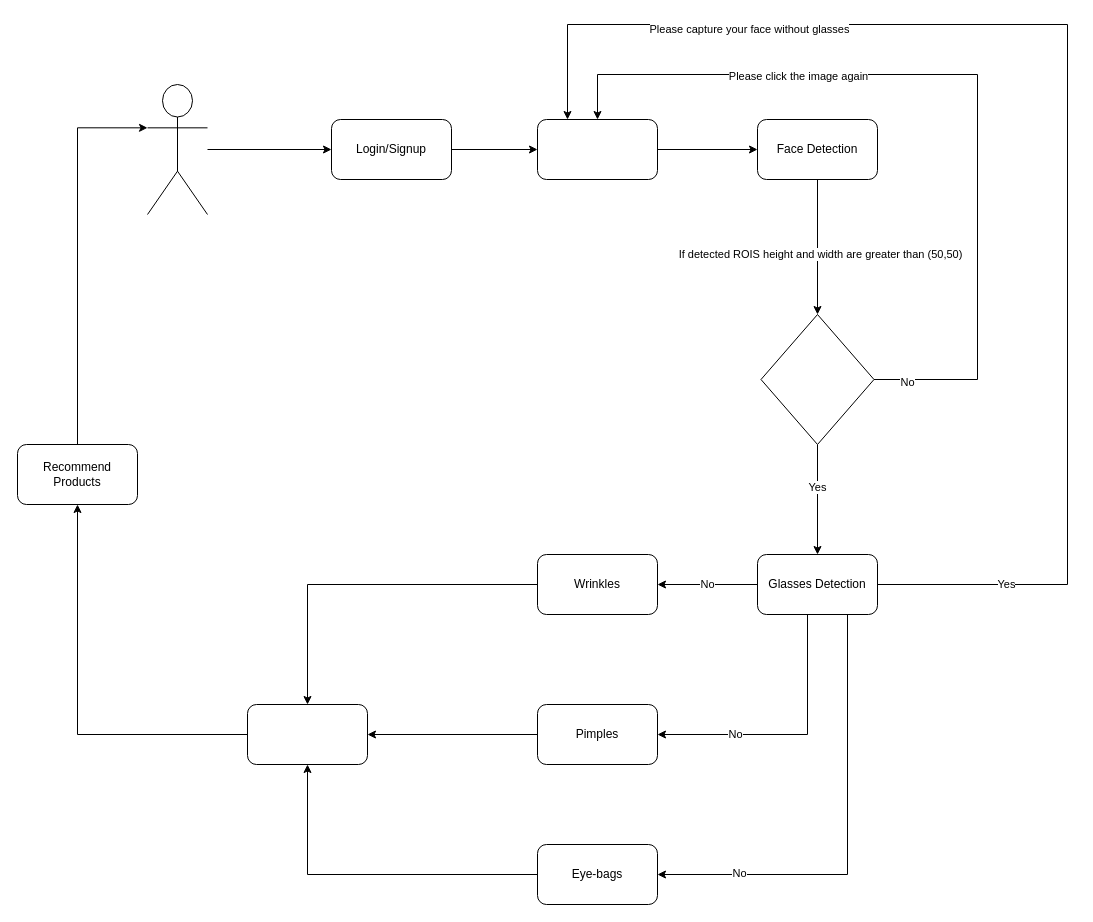
This 1093x922 diagram has some shape labels left out. The centre of each missing label's shape, as x and y in pixels:
"Actor" belongs at (177,149).
"Click Image" belongs at (597,149).
"Image and Percetage" belongs at (307,734).
